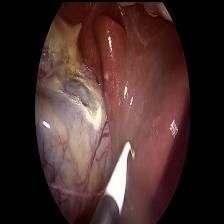Hook: (104, 136, 135, 216)
